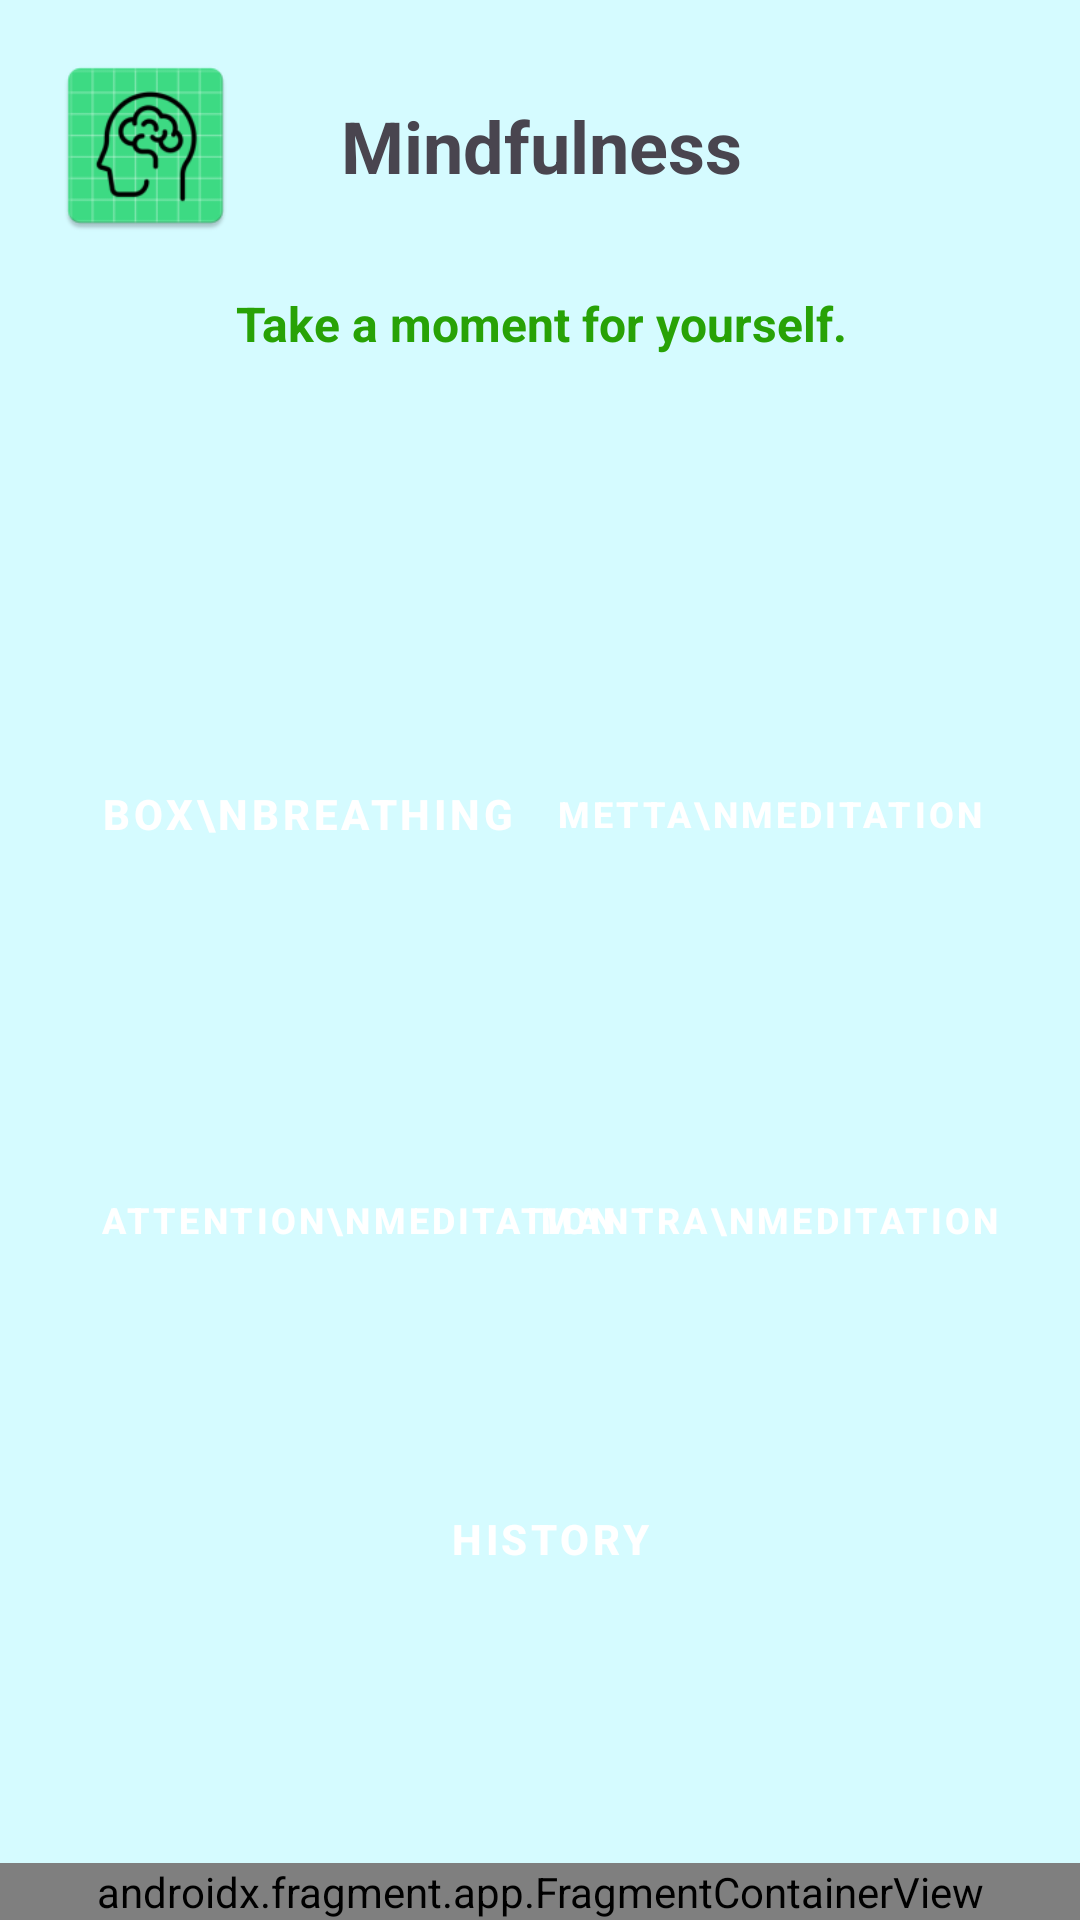

Icons on this 1080×1920 Android screen, each with the point to tap as [x,y]:
mindfullness: [145,148]
